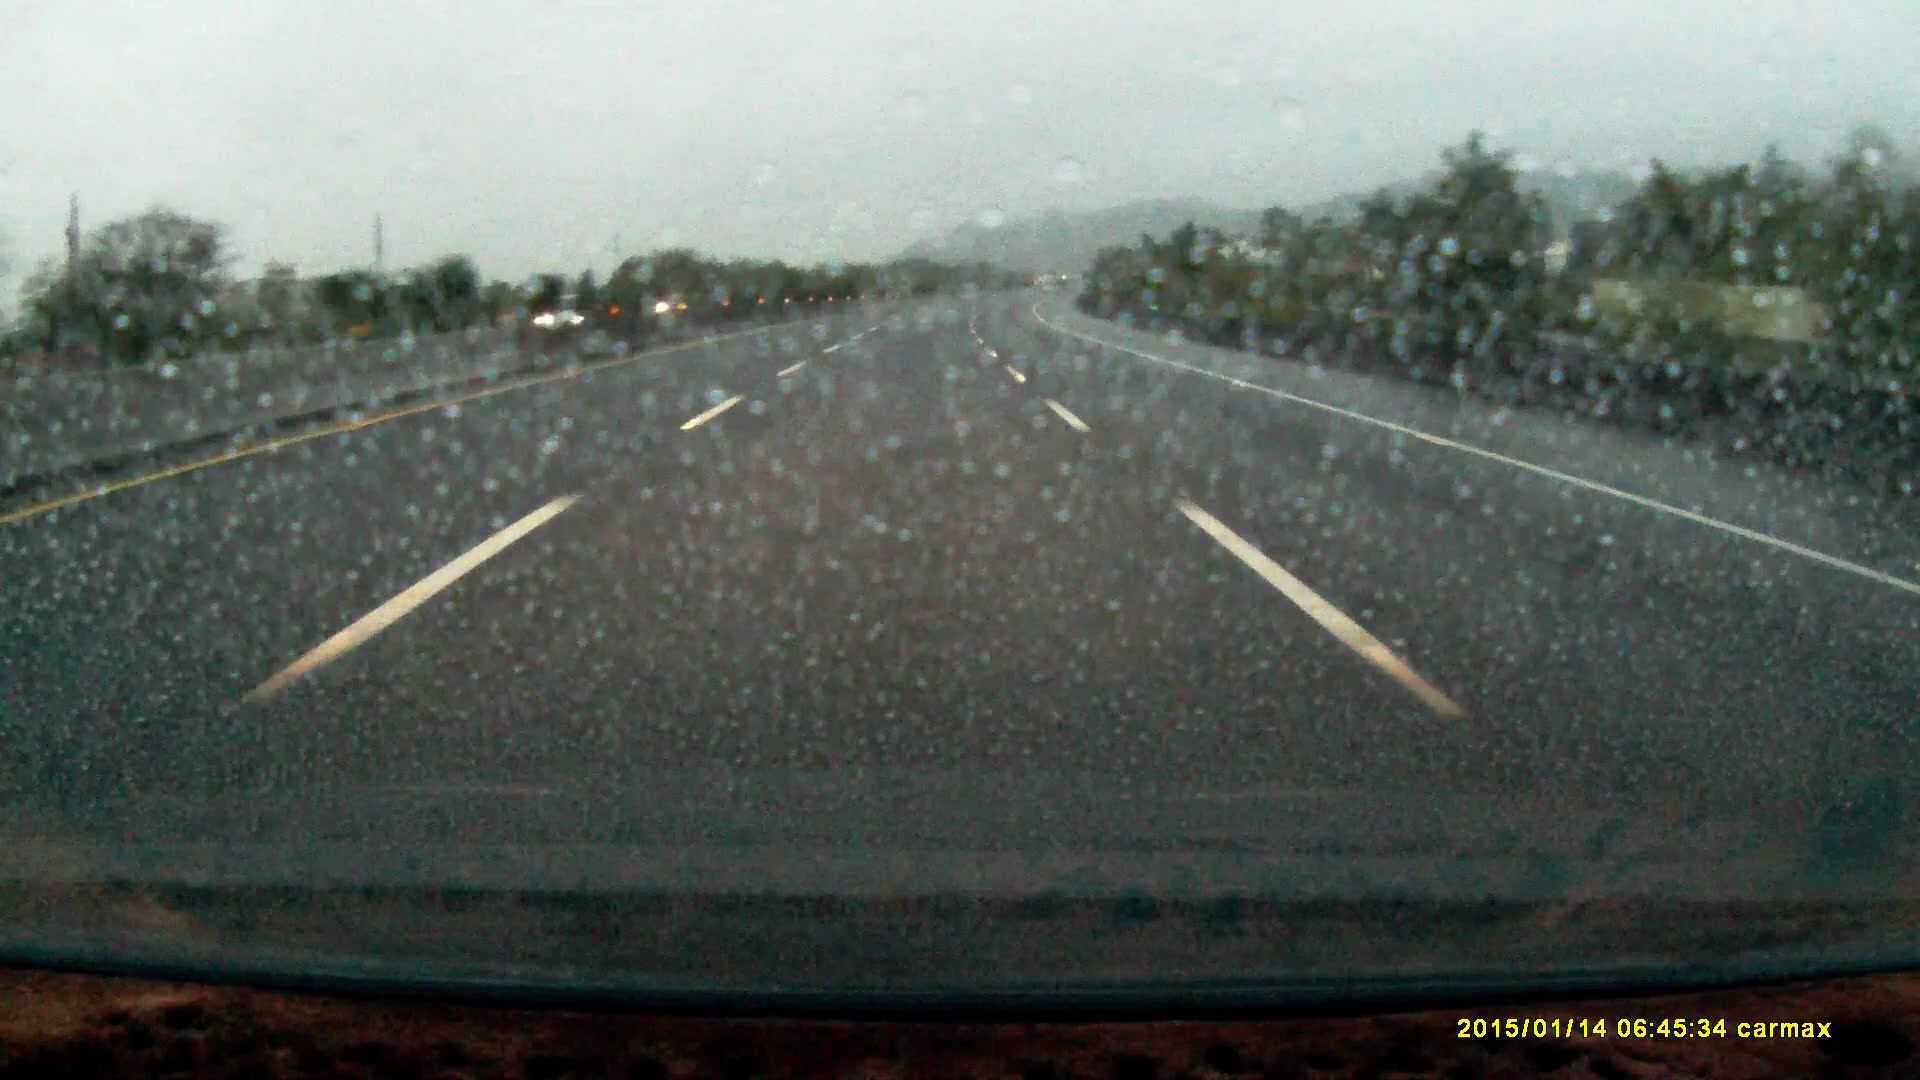vehicle: (538, 299, 633, 332), (651, 290, 719, 318)
